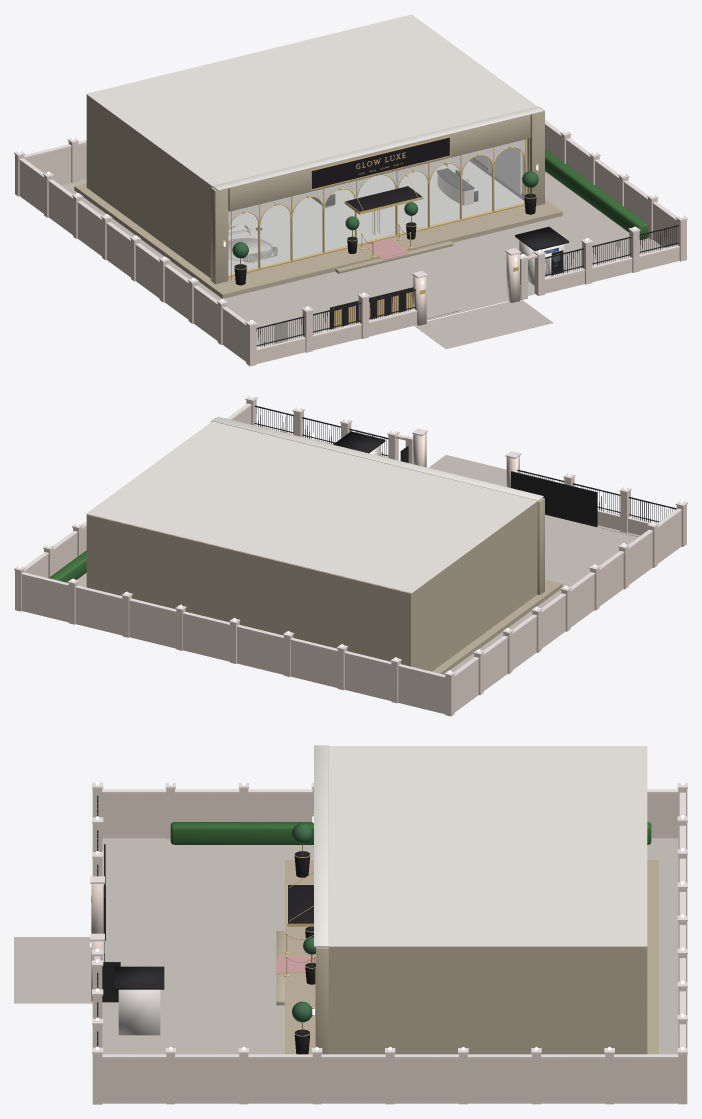
The model's file is set_glow_luxe.glb.
3 views of the same model, one above another, from view 1: azimuth 30°, elevation 25°; view 2: azimuth 150°, elevation 25°; view 3: azimuth 270°, elevation 25° (orthographic). The views are drawn at different scales.
Visible parts, largest first — view 1: GR_set_glow_luxe, GD_set_glow_luxe; view 2: GR_set_glow_luxe; view 3: GR_set_glow_luxe, GD_set_glow_luxe.
Boxes of the visible parts, bbox=[...] form: GR_set_glow_luxe: bbox=[14, 14, 687, 366]; GD_set_glow_luxe: bbox=[223, 137, 554, 285]; GR_set_glow_luxe: bbox=[14, 395, 687, 716]; GR_set_glow_luxe: bbox=[14, 745, 687, 1104]; GD_set_glow_luxe: bbox=[276, 814, 315, 1054].
Bounding box in the file's own units: 30.54 × 6.59 × 32.25.
15 materials, 2 textured.
